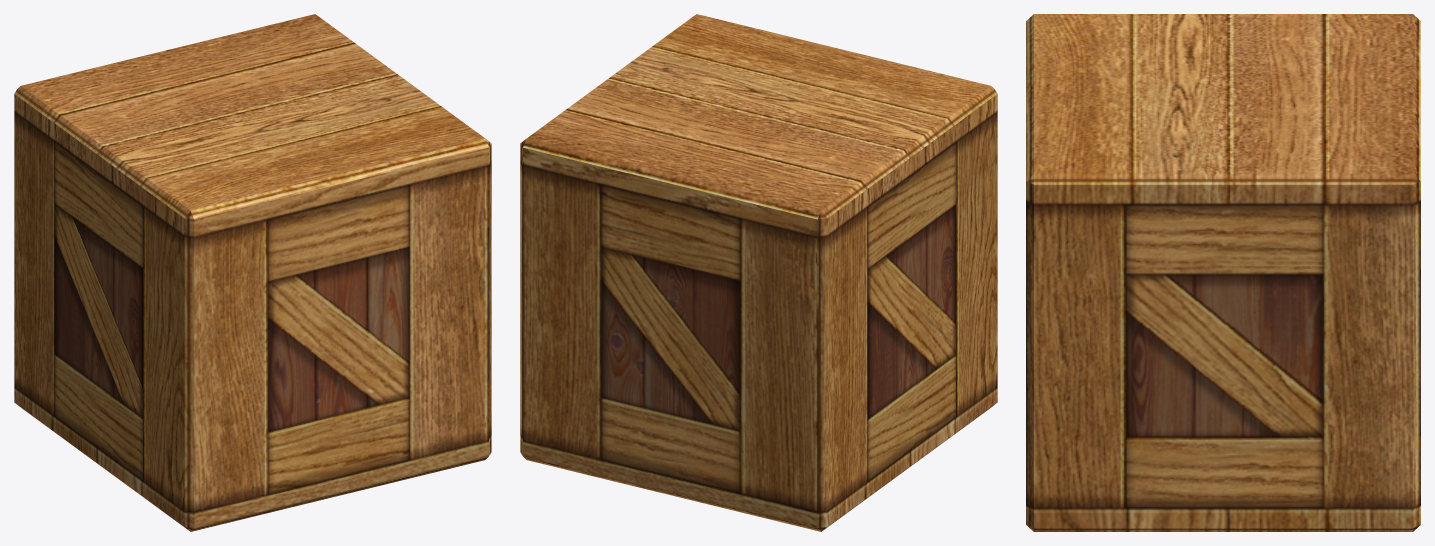
Rendered from crate02.obj.
The picture shows the model from 3 angles, left to right: view 1: azimuth 30°, elevation 25°; view 2: azimuth 150°, elevation 25°; view 3: azimuth 270°, elevation 25°; orthographic projection. The views are drawn at different scales.
Parts seen in each view (by area): view 1: Crate02; view 2: Crate02; view 3: Crate02.
Boxes of the visible parts, bbox=[...] form: Crate02: bbox=[14, 14, 491, 531]; Crate02: bbox=[520, 14, 997, 531]; Crate02: bbox=[1026, 14, 1420, 531].
Bounding box in the file's own units: 0.25 × 0.25 × 0.25.
